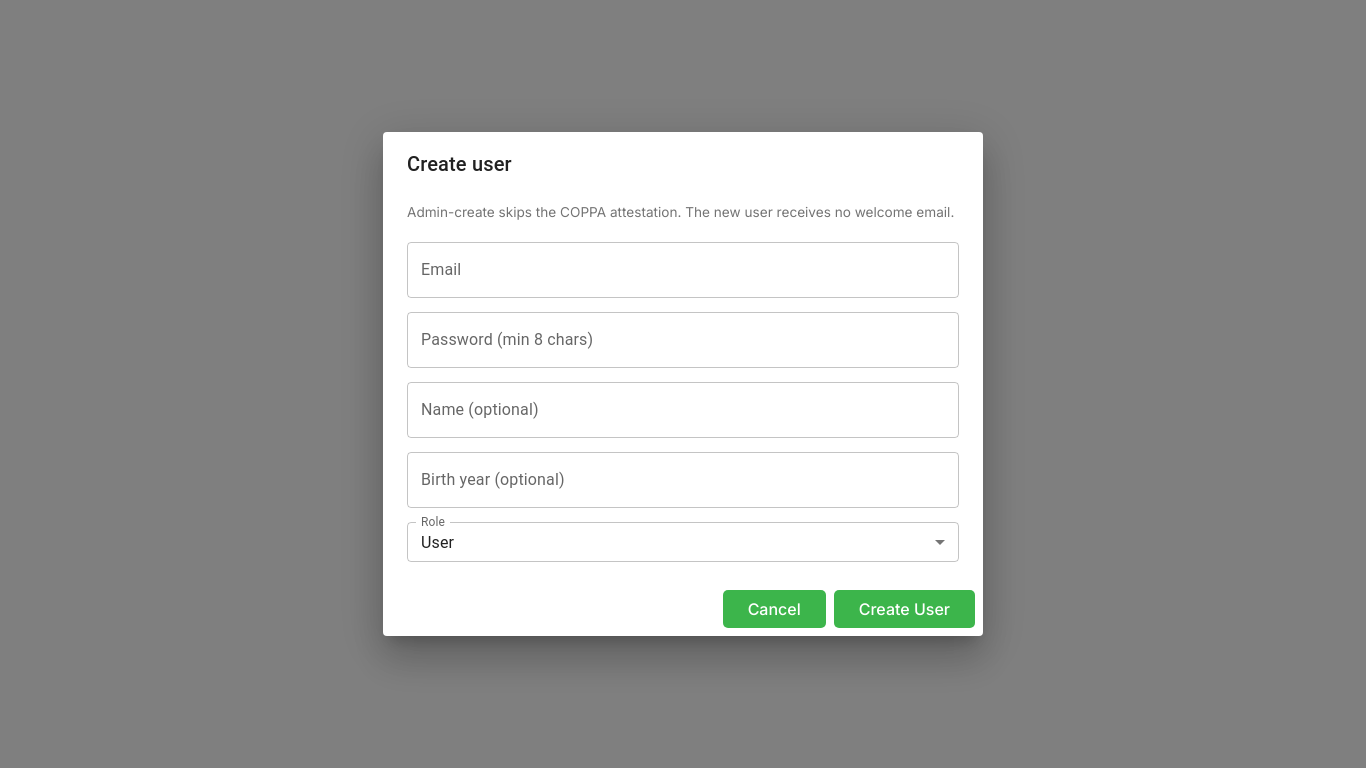
Scenario: CreateUserModal › rejects an out-of-range birth year
The width and height of the screenshot is (1366, 768).
Type "a@b.com" into the field labelled "Email".
click(683, 270); type("a@b.com")  # box [407,242,959,298]
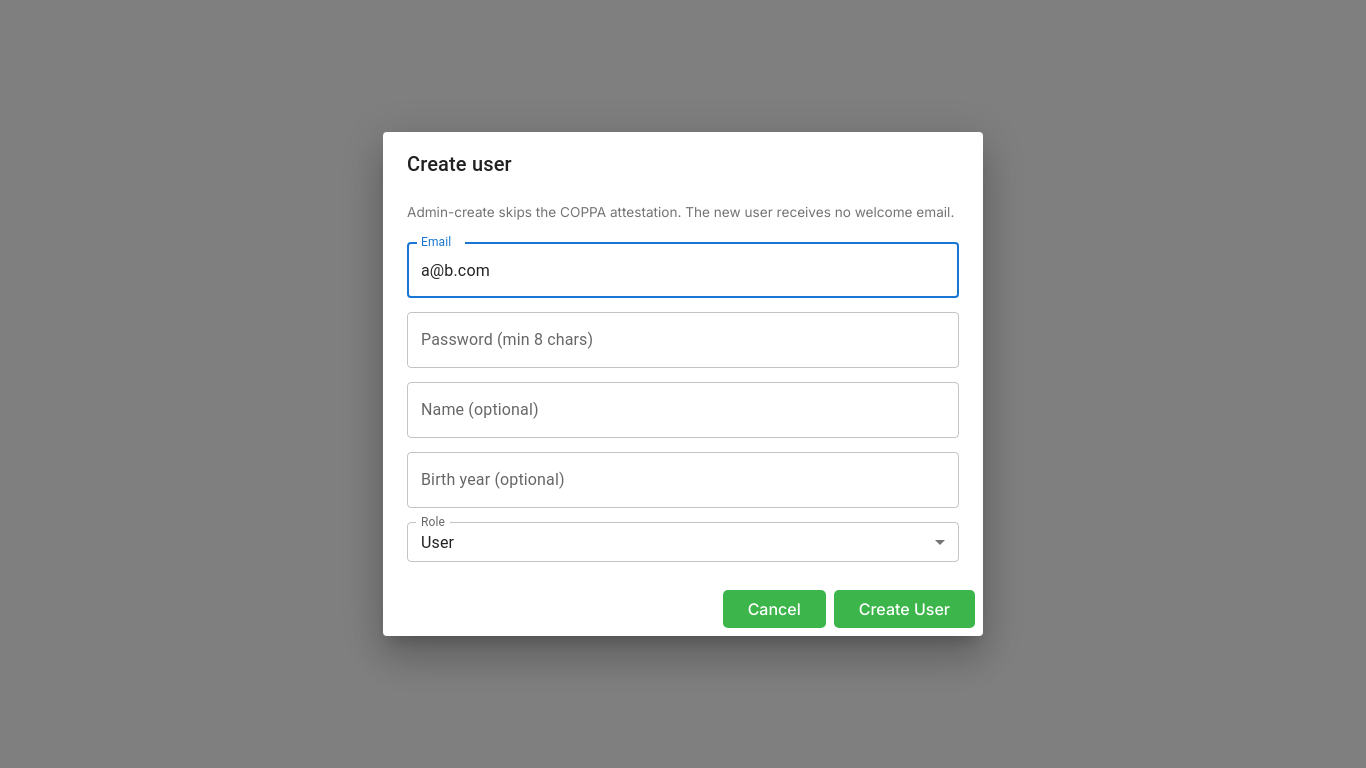
Type "password123" into the password field labelled "Password (min 8 chars)".
click(683, 340); type("password123")  # box [407,312,959,368]
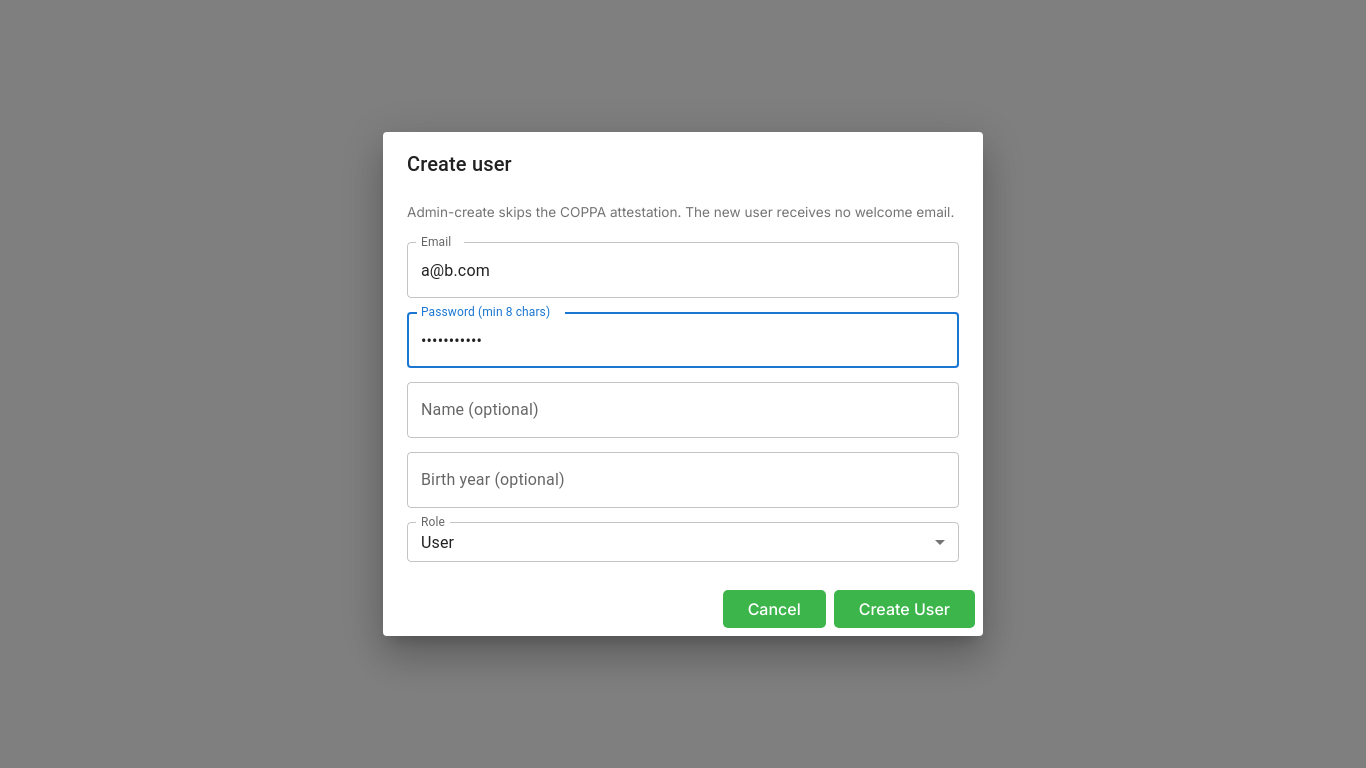
Type "1800" into the number field labelled "Birth year (optional)".
click(683, 480); type("1800")  # box [407,452,959,508]
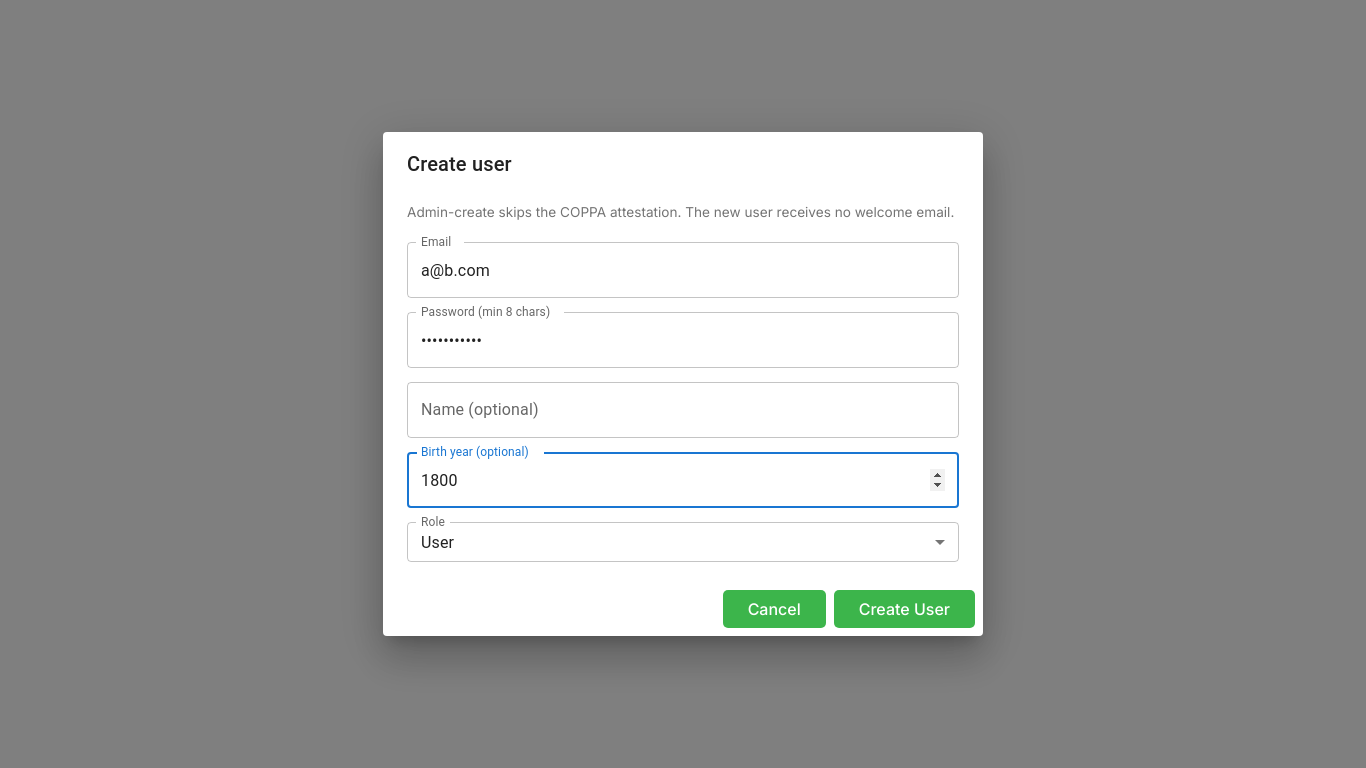
Click the button "Create user".
click(904, 609)  # box [834,590,975,628]
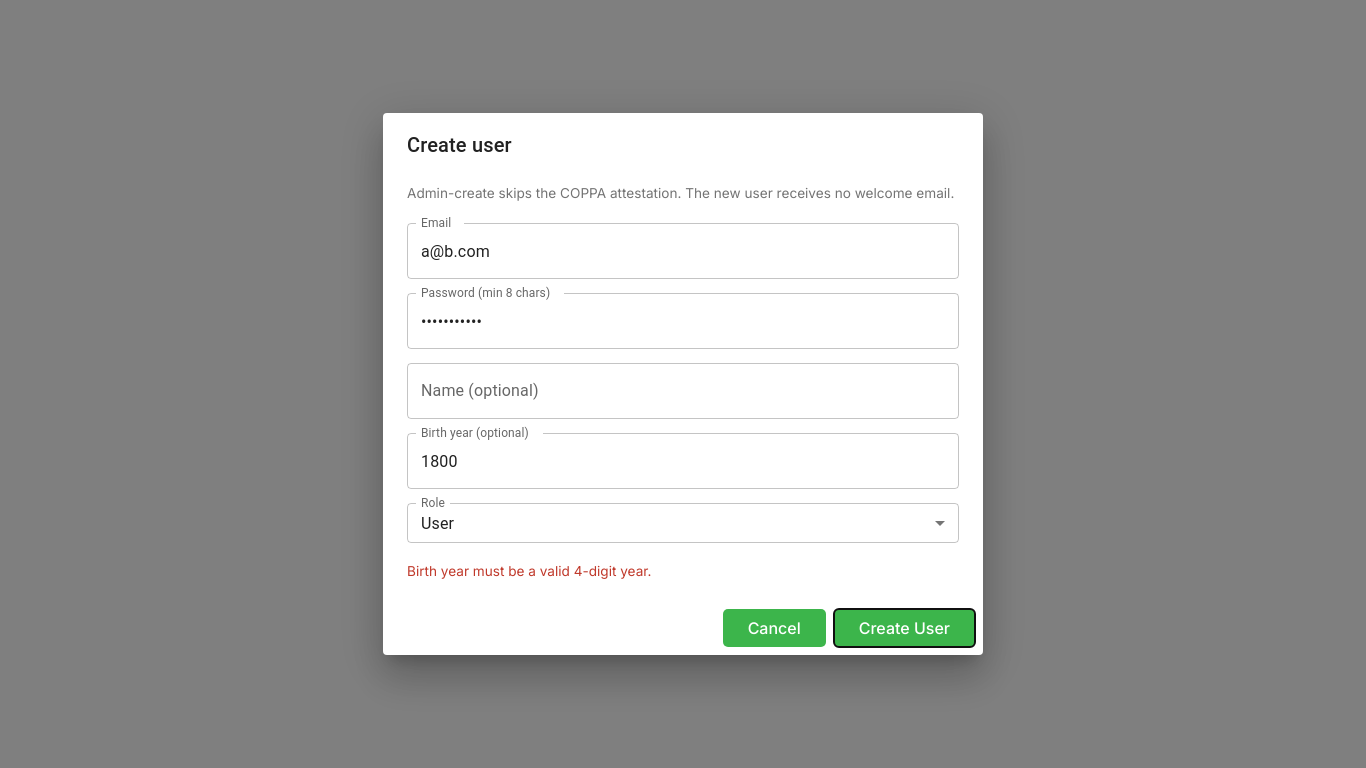
Check: the message reads "Birth year must be a valid 4-digit year.", box [407,563,652,579]
